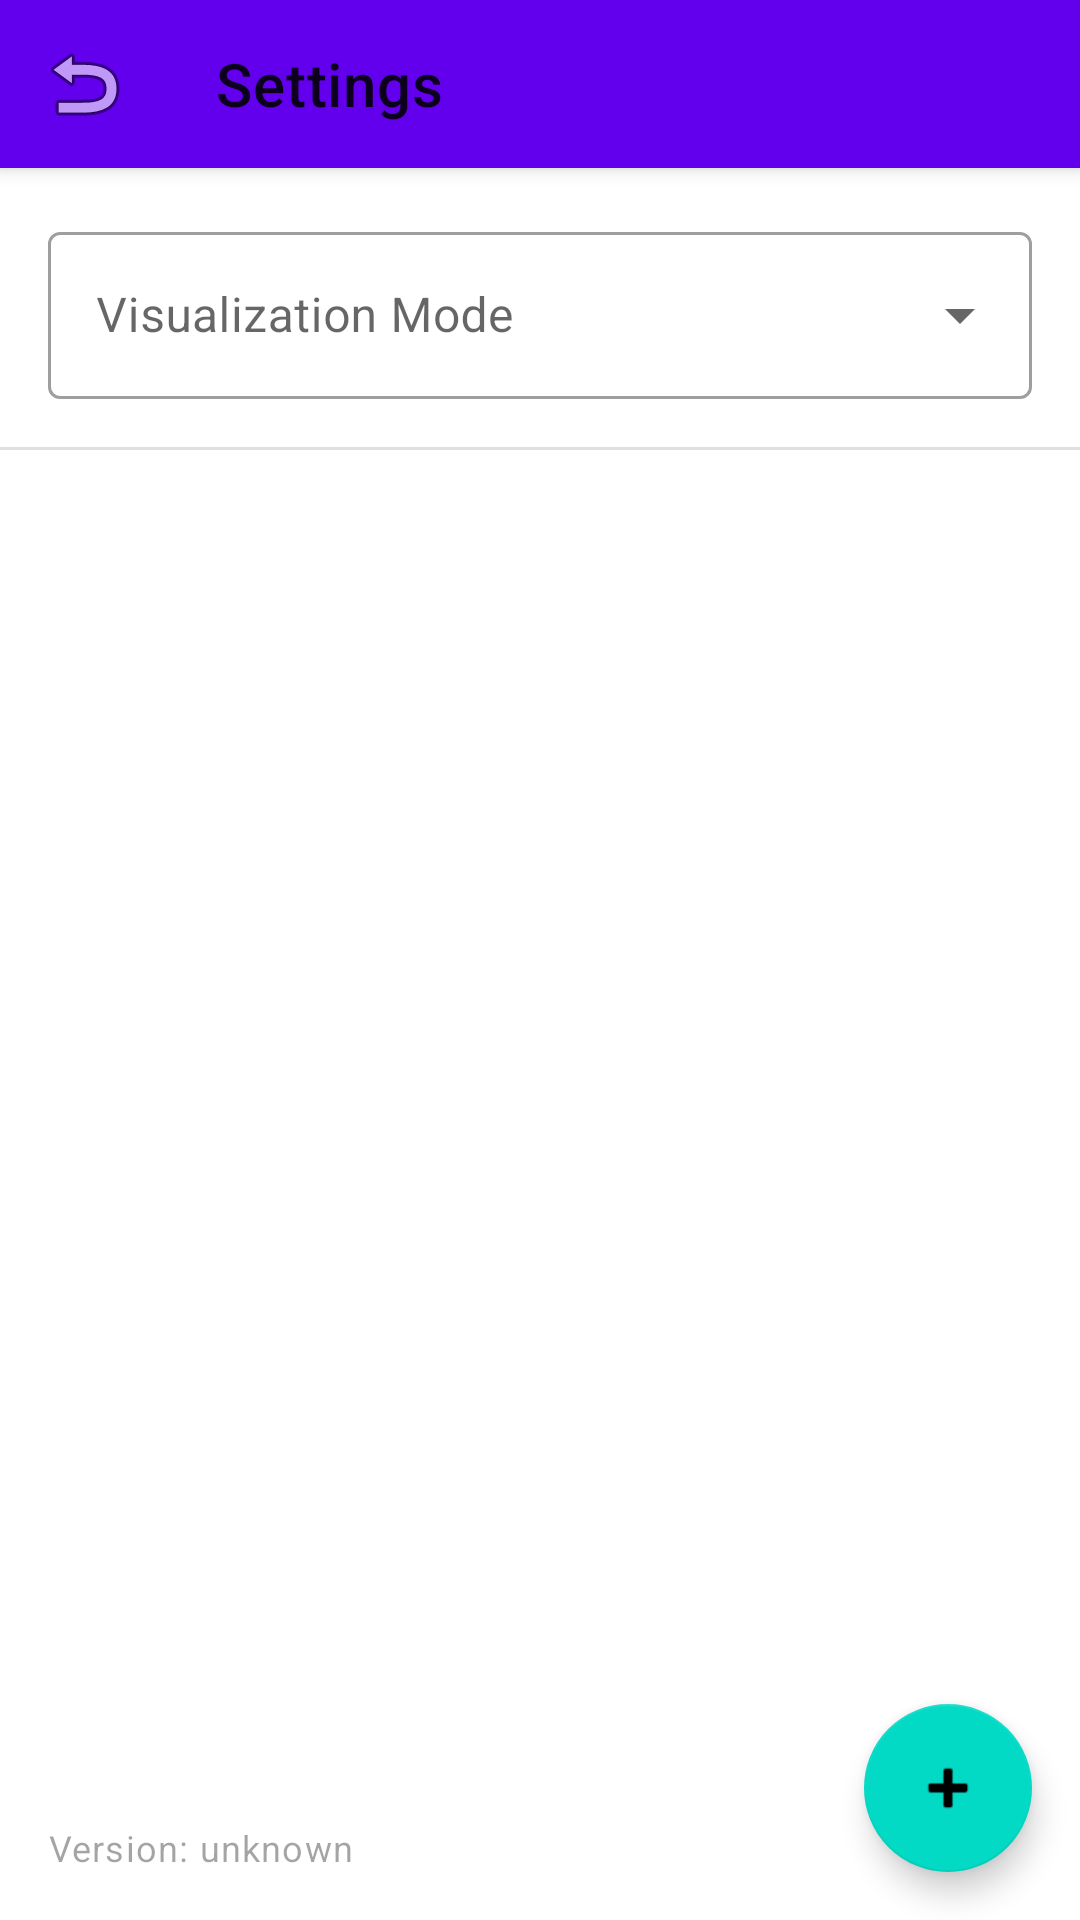

Where icons sit on this 1080x1920 app screen, as (x1, y1, x2, y2):
Add New Pulse: (864, 1704, 1032, 1872)
